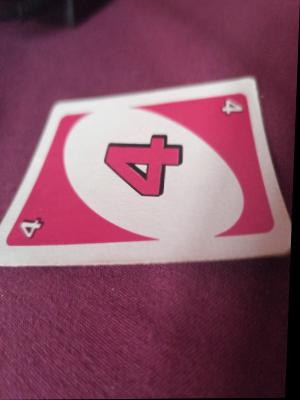num_4: (101, 132, 189, 205)
